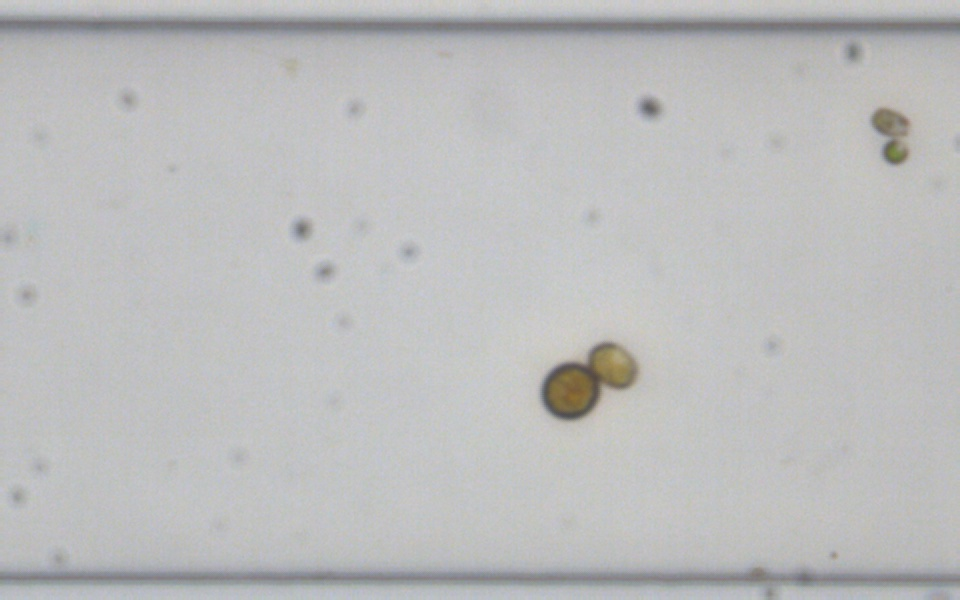Chlorella: (879, 136, 909, 164)
Effrenium: (537, 357, 600, 421), (587, 340, 639, 389)
Platymonas: (867, 105, 912, 140)
